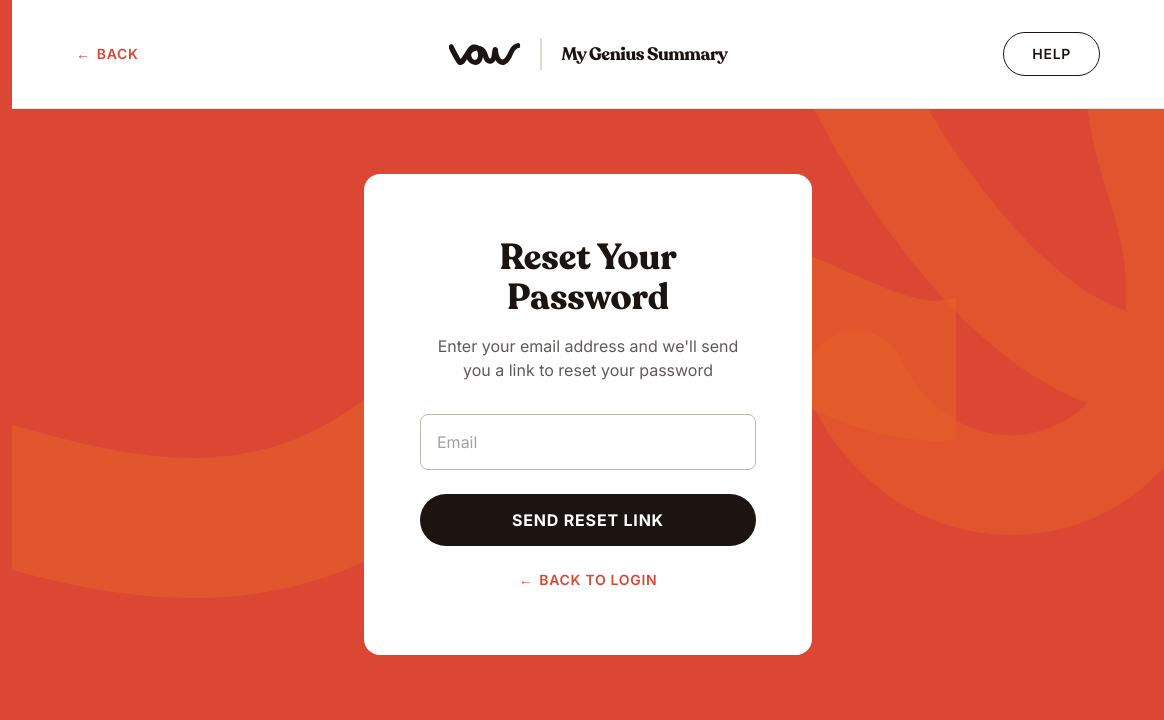
Test: ForgotPasswordPage › shows server error and re-enables submit
Type "user@example.com" into the field labelled "Email".
click(588, 442); type("user@example.com")  # box [420, 414, 756, 470]
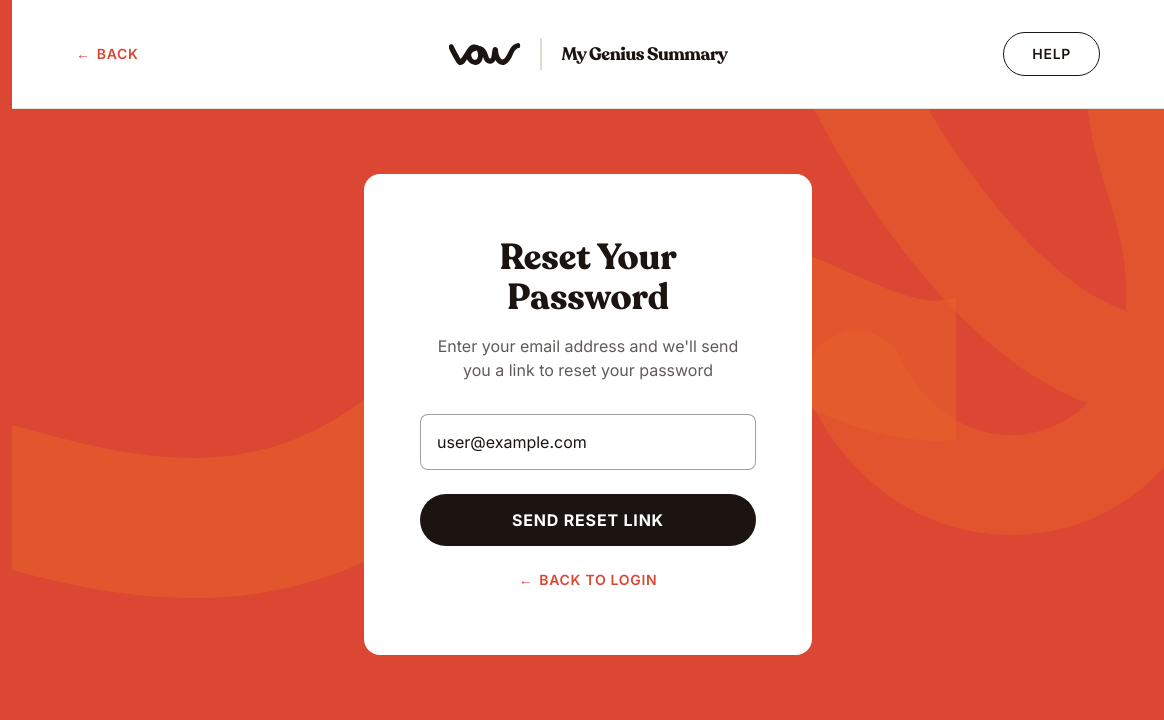
Click the button "Send Reset Link".
click(588, 520)  # box [420, 494, 756, 546]
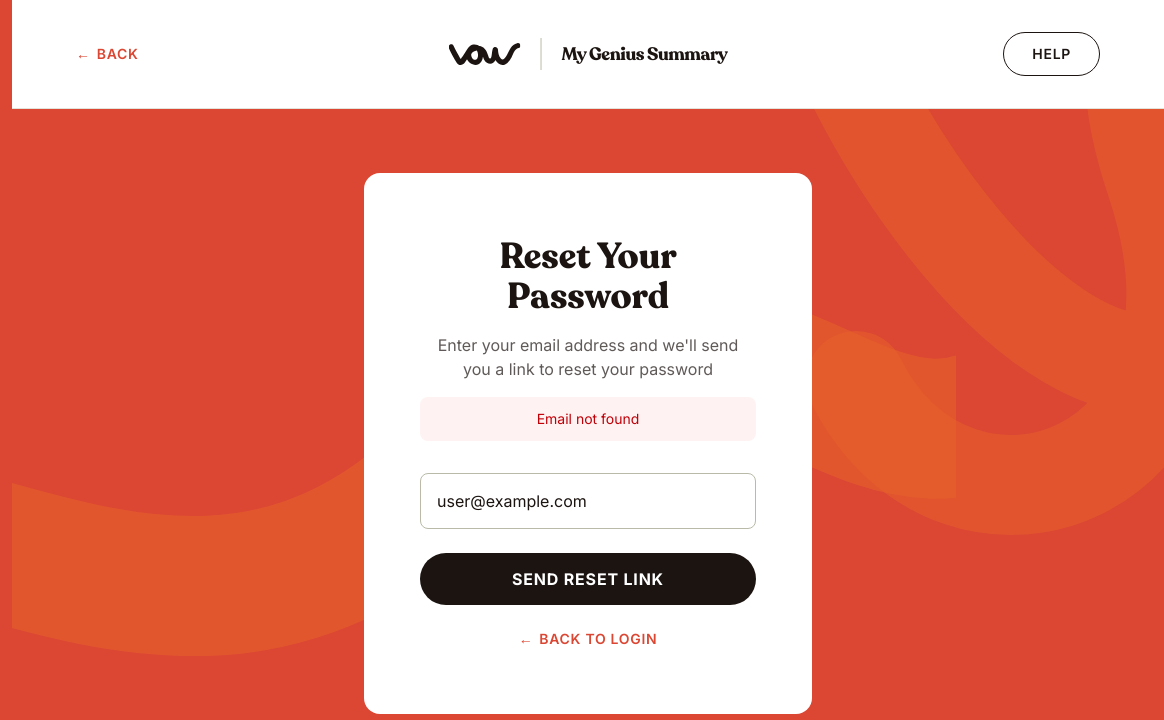
Expected: the button "Send Reset Link" is enabled, [420, 553, 756, 605]
Result: the text "Email not found" is shown at [420, 397, 756, 441]
